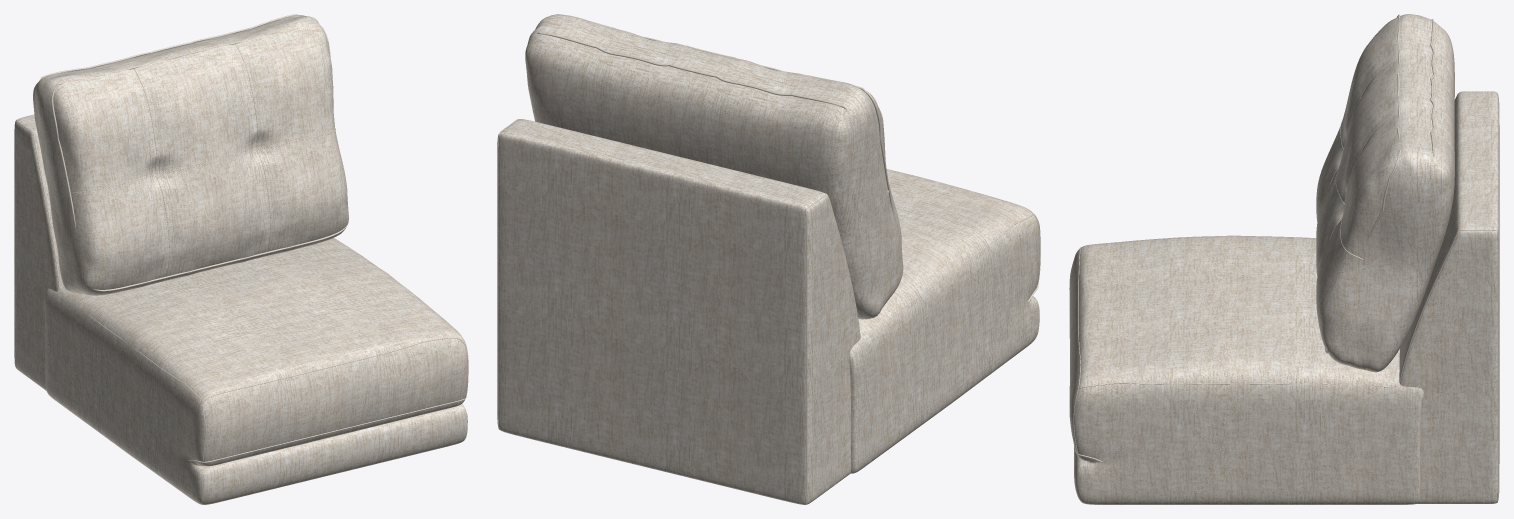
Rendered from seat.glb.
3 renders of one model, left to right at view 1: azimuth 30°, elevation 25°; view 2: azimuth 150°, elevation 25°; view 3: azimuth 270°, elevation 25°, orthographic. The views are drawn at different scales.
Parts seen in each view (by area): view 1: D=~ 0,00 m; view 2: D=~ 0,00 m; view 3: D=~ 0,00 m.
Part boxes in pixels (left/top/right/bottom): D=~ 0,00 m: left=14, top=14, right=468, bottom=504; D=~ 0,00 m: left=497, top=14, right=1040, bottom=504; D=~ 0,00 m: left=1069, top=14, right=1499, bottom=504.
Bounding box in the file's own units: 0.8481 × 0.9312 × 1.03.
Materials: 1 (1 with a texture image).
